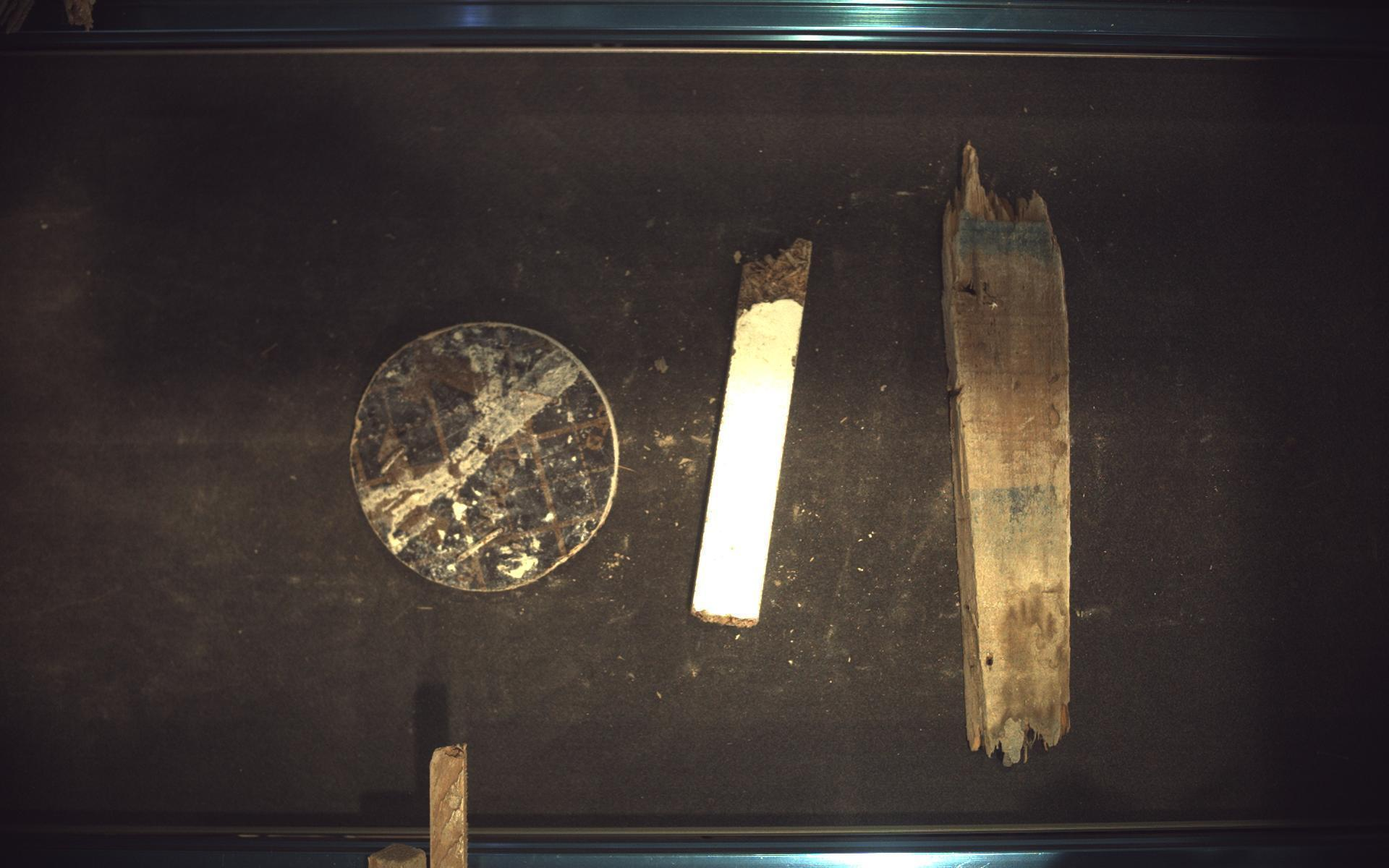wood: (944, 142, 1073, 767), (350, 322, 619, 592), (692, 237, 813, 628)
